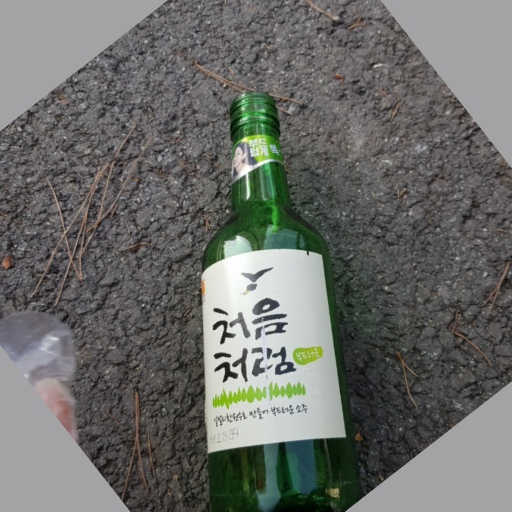Glass_0: (181, 90, 350, 512)
